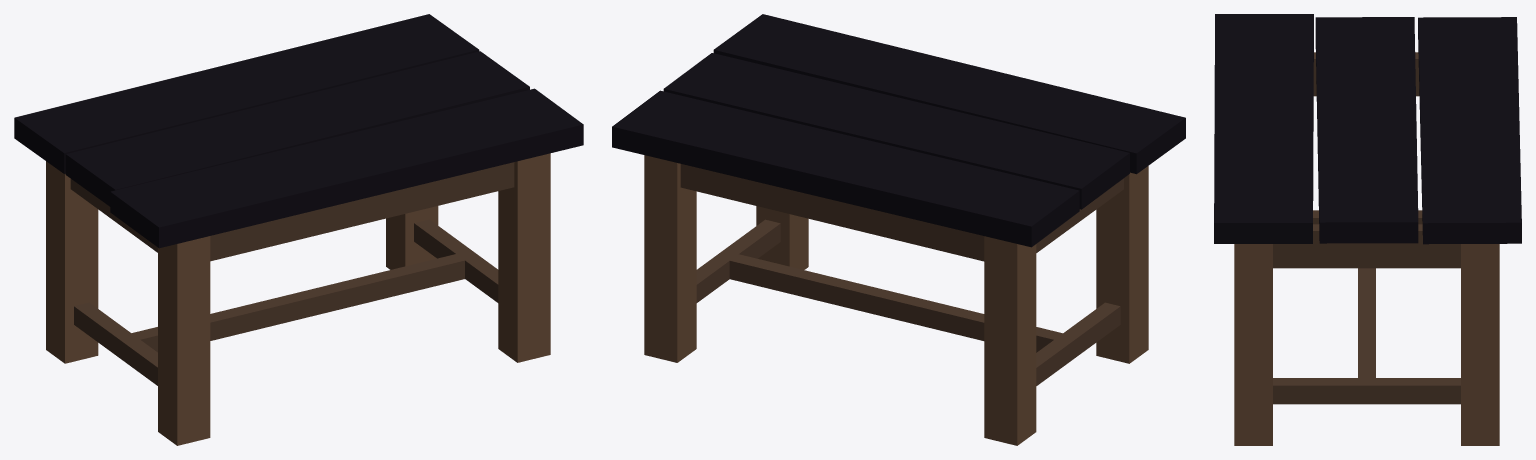
Rendered from table.glb.
The picture shows the model from 3 angles, left to right: view 1: azimuth 30°, elevation 25°; view 2: azimuth 150°, elevation 25°; view 3: azimuth 270°, elevation 25°; orthographic projection.
Parts seen in each view (by area): view 1: table; view 2: table; view 3: table.
Part boxes in pixels (x1,y1,x2,y2): table: [14, 14, 583, 445]; table: [612, 14, 1185, 445]; table: [1214, 14, 1521, 445].
Bounding box in the file's own units: 0.96 × 0.5022 × 0.5977.
